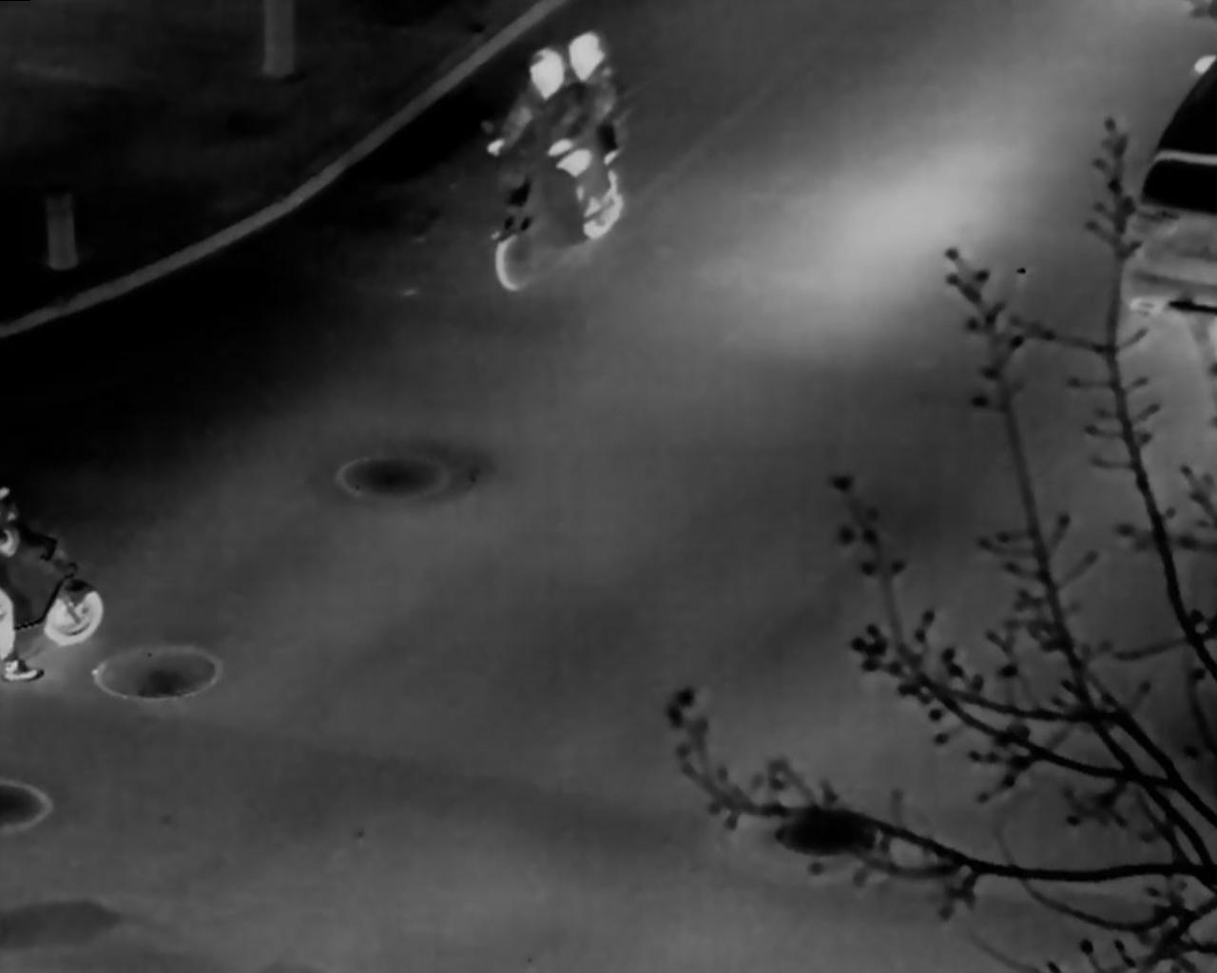person: (513, 29, 630, 215), (482, 46, 586, 227)
